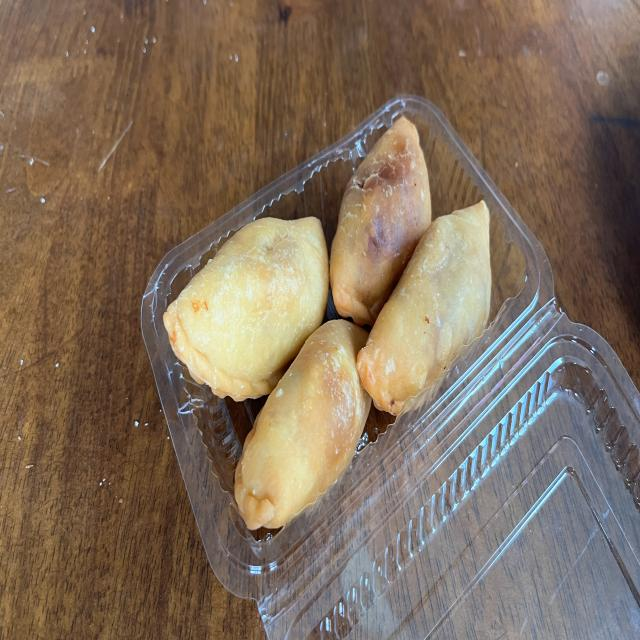karipap: (164, 218, 329, 402), (356, 200, 491, 413), (235, 320, 371, 529), (330, 118, 431, 324)
